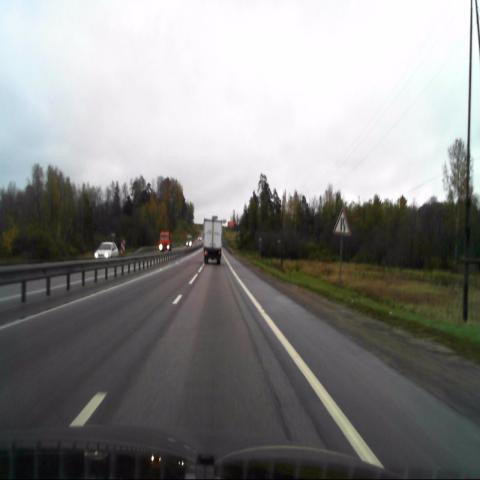1_20_2: (332, 207, 351, 236)
